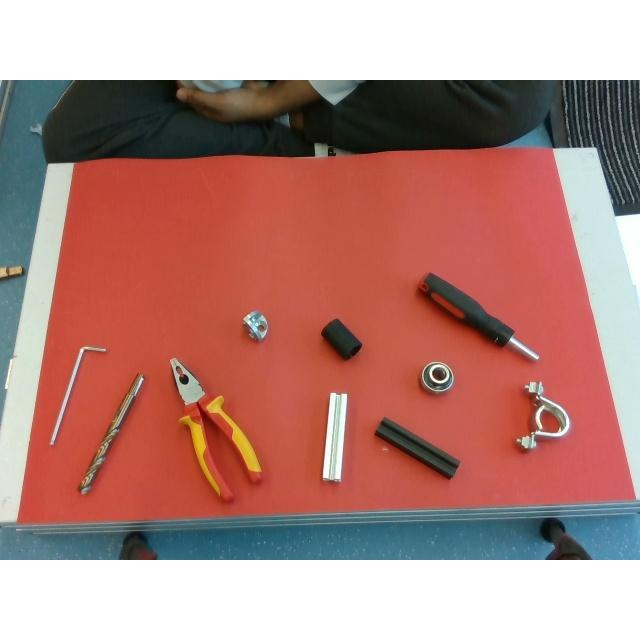Bearing2: (420, 361, 454, 393)
Drill: (80, 374, 144, 494)
F20_20_B: (376, 418, 460, 478)
F20_20_G: (322, 392, 346, 482)
Housing: (515, 381, 571, 451)
